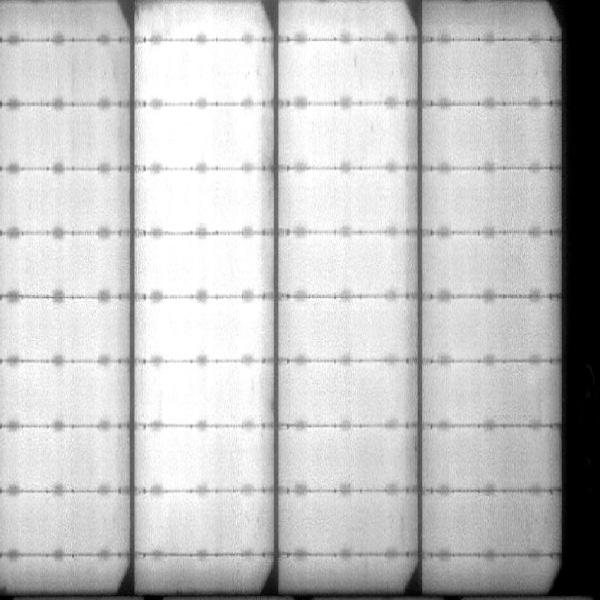hot_spot: (146, 304, 262, 354), (152, 110, 259, 161), (149, 368, 256, 419), (149, 175, 252, 223), (147, 52, 253, 98), (158, 244, 257, 289), (151, 432, 198, 484)
no_electricity: (564, 5, 600, 595)
